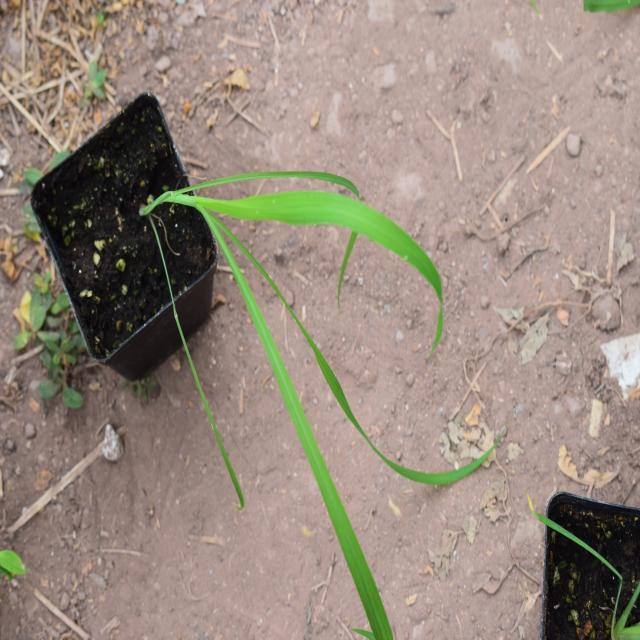barnyard_grass: (138, 138, 464, 599)
